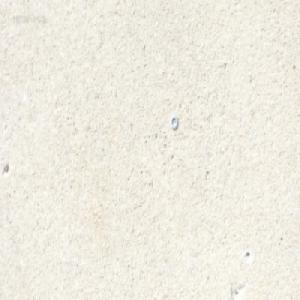Washer: (170, 114, 177, 129)
